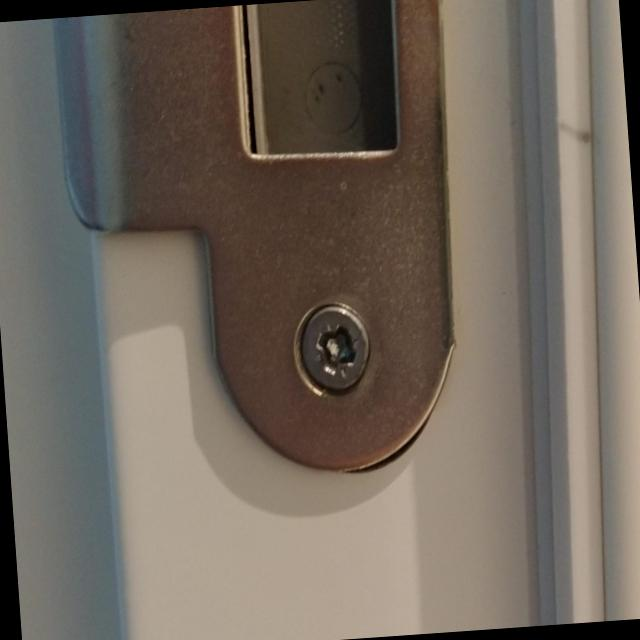Pozidriv: (288, 298, 384, 407)
